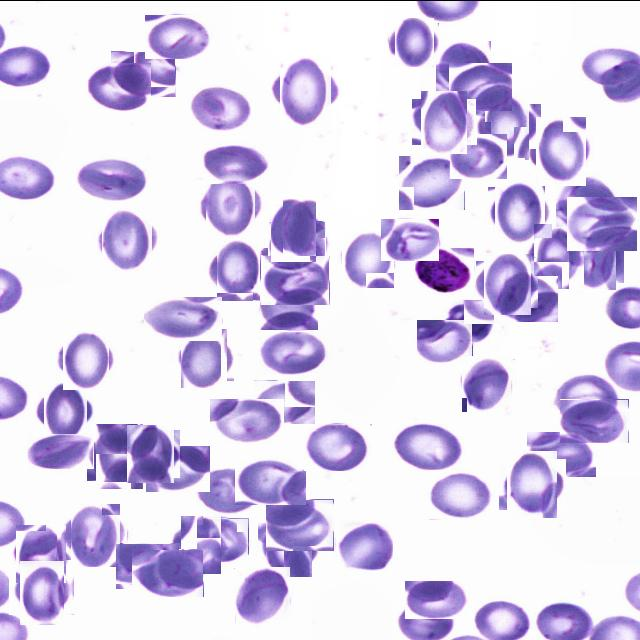difficult: (415, 247, 474, 294)
red blood cell: (274, 59, 338, 121), (392, 420, 466, 472), (567, 196, 637, 250), (399, 154, 465, 209), (531, 120, 591, 180), (144, 295, 223, 340), (266, 498, 334, 550), (260, 254, 330, 304), (503, 454, 562, 513), (132, 548, 204, 596), (194, 466, 264, 515), (202, 176, 260, 234), (98, 210, 156, 268), (304, 422, 373, 470), (234, 566, 291, 624), (210, 398, 284, 442), (429, 469, 494, 519), (78, 155, 148, 201), (556, 374, 620, 424), (556, 176, 620, 226), (235, 459, 306, 504), (68, 506, 124, 563), (91, 428, 148, 484), (259, 330, 331, 374), (492, 183, 548, 239), (529, 227, 585, 283), (480, 98, 536, 154), (88, 61, 152, 110), (527, 431, 596, 476), (560, 398, 629, 442), (340, 231, 396, 285), (449, 62, 512, 110), (566, 230, 620, 286), (188, 84, 253, 130), (111, 50, 176, 96), (14, 526, 68, 581), (416, 94, 471, 148), (266, 203, 321, 257), (336, 519, 394, 570), (146, 445, 210, 491), (116, 542, 180, 588), (494, 275, 558, 321), (262, 518, 316, 572), (480, 256, 534, 310), (145, 14, 211, 58), (268, 220, 326, 270), (59, 332, 112, 386), (15, 565, 68, 619), (124, 426, 178, 479), (200, 142, 269, 183), (461, 356, 514, 409), (212, 242, 265, 295), (38, 384, 92, 436), (436, 40, 491, 91), (254, 379, 316, 424), (178, 331, 230, 384), (448, 133, 506, 178), (417, 318, 473, 364), (260, 285, 318, 329), (193, 517, 249, 561), (176, 519, 225, 569), (381, 218, 439, 260), (405, 580, 468, 618), (442, 298, 496, 342), (28, 432, 94, 468), (392, 19, 436, 64)
